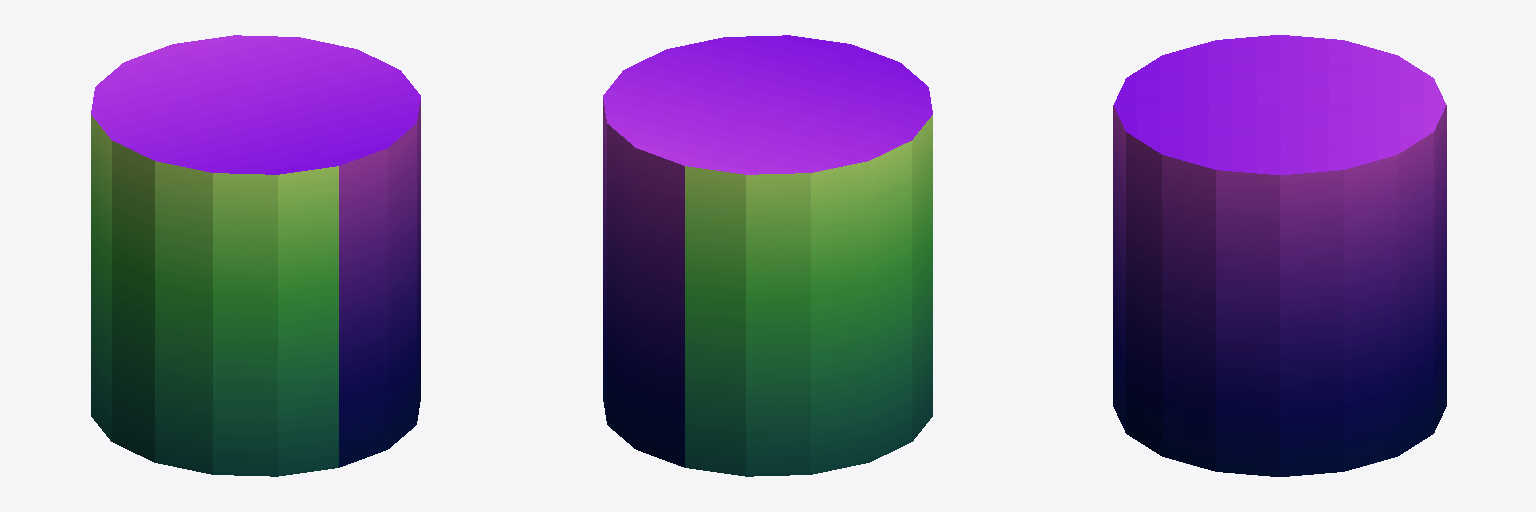
The picture shows the model from 3 angles: view 1: azimuth 30°, elevation 25°; view 2: azimuth 150°, elevation 25°; view 3: azimuth 270°, elevation 25°; orthographic projection.
Visible parts, largest first — view 1: Cylinder; view 2: Cylinder; view 3: Cylinder.
Boxes of the visible parts, box(x1,y1,x2,y2) form: Cylinder: box(91, 35, 420, 476); Cylinder: box(603, 35, 932, 476); Cylinder: box(1113, 35, 1446, 476).
Size of the model in its own units: 2 by 2 by 2.
Materials: 1 (1 with a texture image).